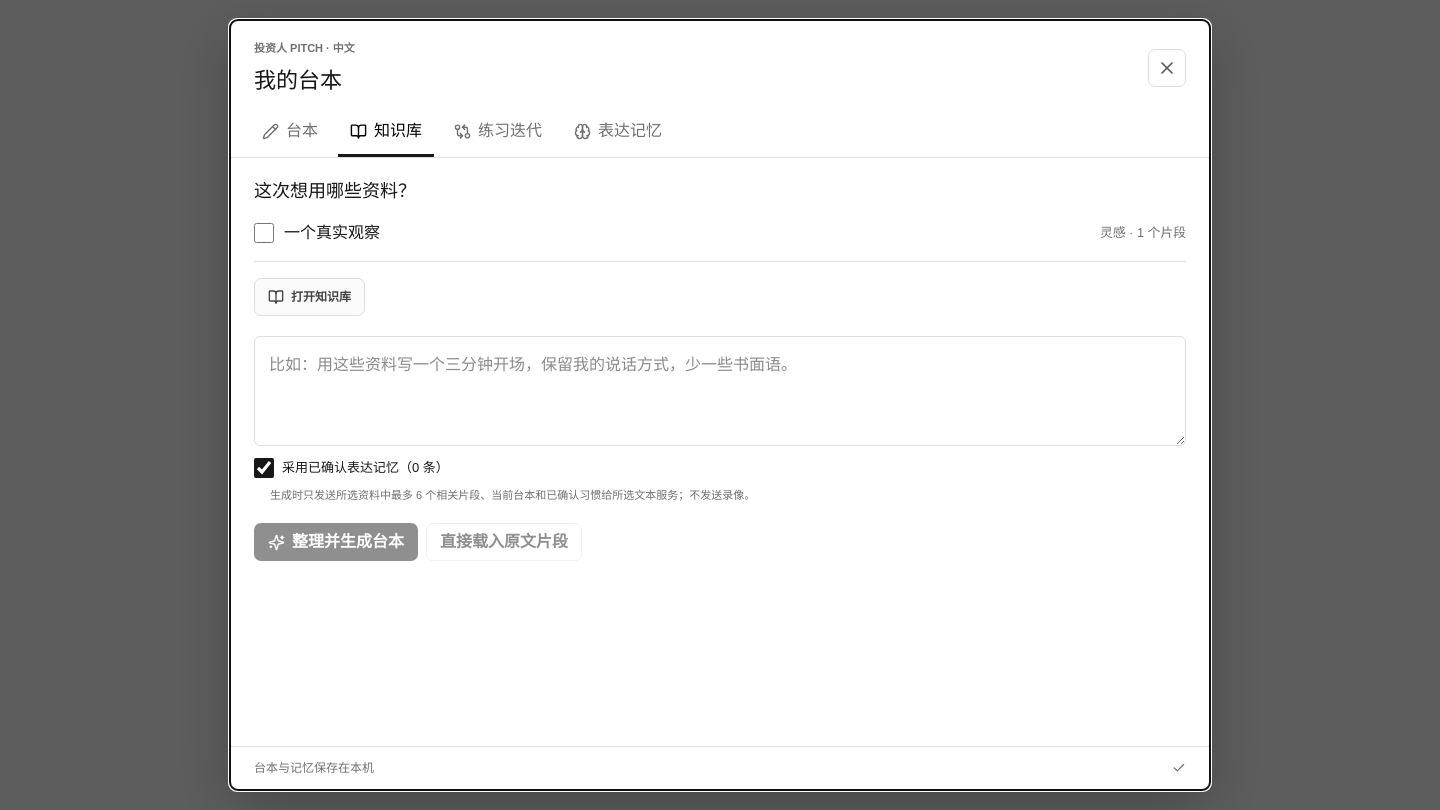
Test case: offers inspiration documents as script sources
expect the text "灵感 · 1 个片段" is shown: met, box [1100,223,1186,242]
Click the checkbox labelled "一个真实观察 灵感 · 1 个片段" at (264, 232), box [254,222,274,242]
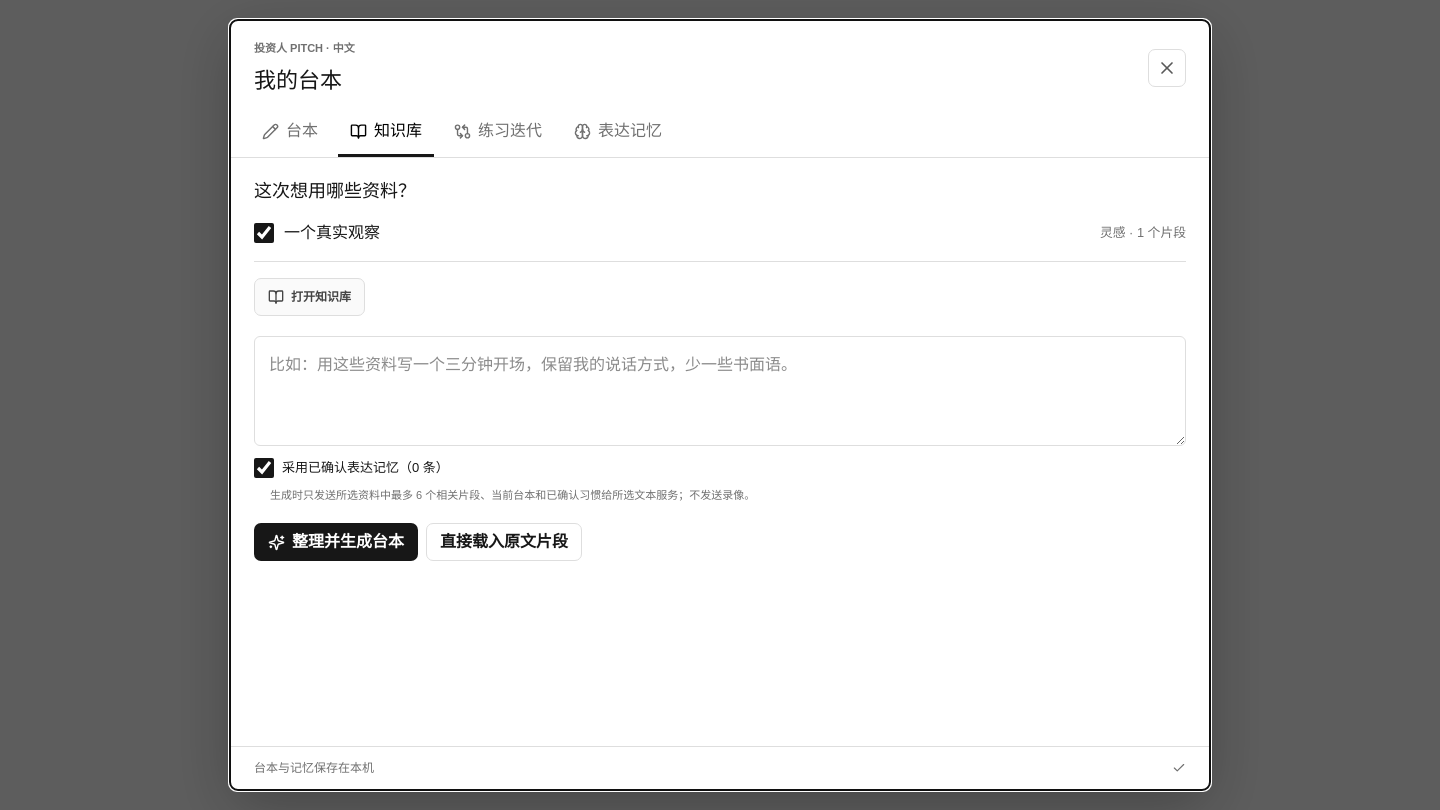
Click the button "直接载入原文片段" at (504, 542), box [426,523,582,561]
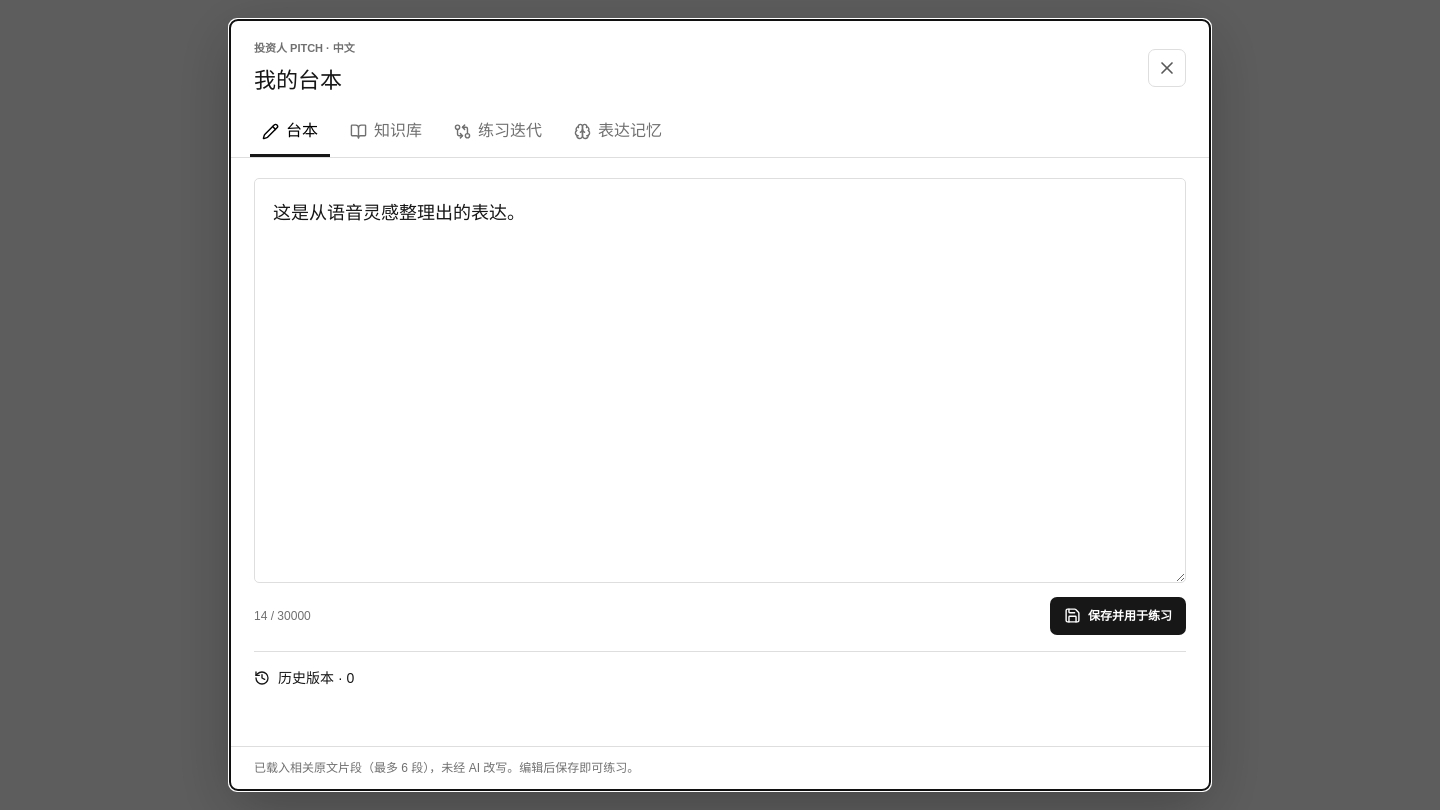
expect the text box named "编辑完整台本" holds "这是从语音灵感整理出的表达。": met, box [254,178,1186,582]
